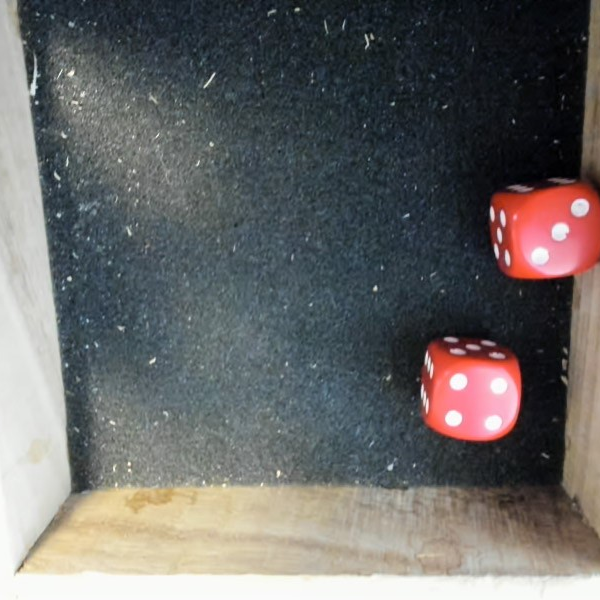red_die_pip3: (483, 168, 598, 286)
red_die_pip4: (413, 329, 525, 447)
